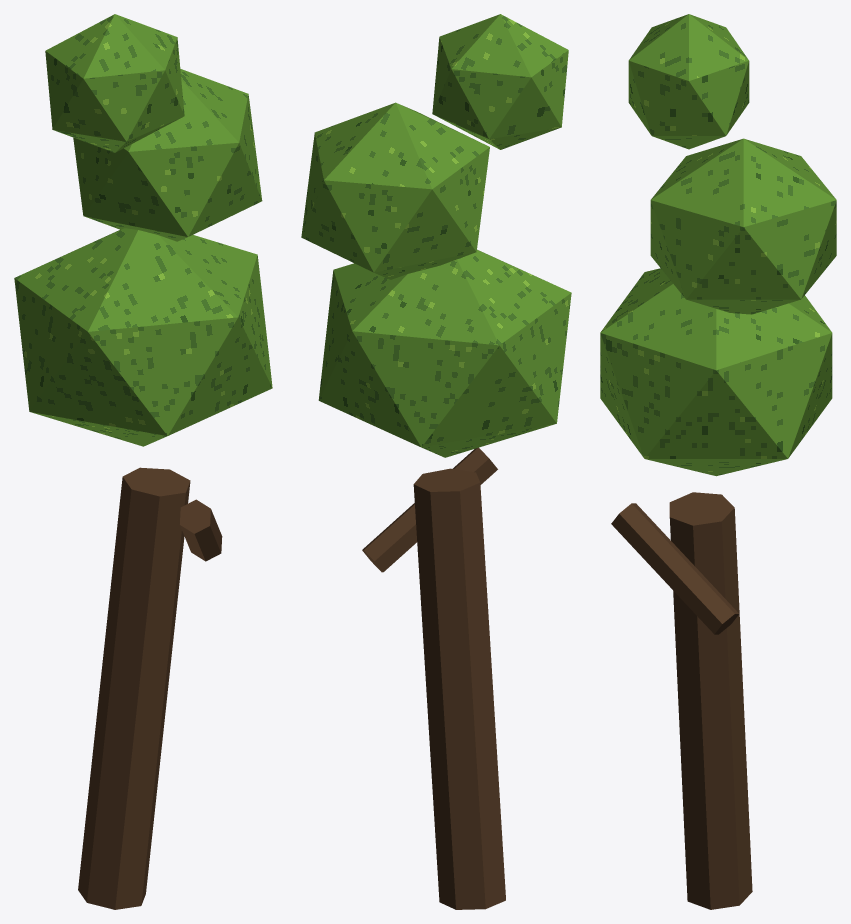
The model's file is forest_tree_01.glb.
3 views of the same model, side by side, from view 1: azimuth 30°, elevation 25°; view 2: azimuth 150°, elevation 25°; view 3: azimuth 270°, elevation 25° (orthographic). The views are drawn at different scales.
Parts seen in each view (by area): view 1: canopy_low, trunk, canopy_mid, canopy_top, branch_stub; view 2: canopy_low, trunk, canopy_mid, canopy_top, branch_stub; view 3: canopy_low, canopy_mid, trunk, canopy_top, branch_stub.
Boxes of the visible parts, <box> form: canopy_low: <box>14,228,272,446</box>; trunk: <box>78,467,190,909</box>; canopy_mid: <box>73,69,262,241</box>; canopy_top: <box>45,14,184,152</box>; branch_stub: <box>179,499,222,561</box>; canopy_low: <box>318,249,571,457</box>; trunk: <box>413,468,505,909</box>; canopy_mid: <box>301,102,489,279</box>; canopy_top: <box>432,14,568,149</box>; branch_stub: <box>362,447,497,572</box>; canopy_low: <box>600,268,832,476</box>; canopy_mid: <box>650,138,836,314</box>; trunk: <box>669,492,752,909</box>; canopy_top: <box>628,14,749,149</box>; branch_stub: <box>611,503,738,634</box>.
Size of what is drawn, in the model's own units: 0.7676 by 2.83 by 0.6916.
2 materials, 1 textured.
